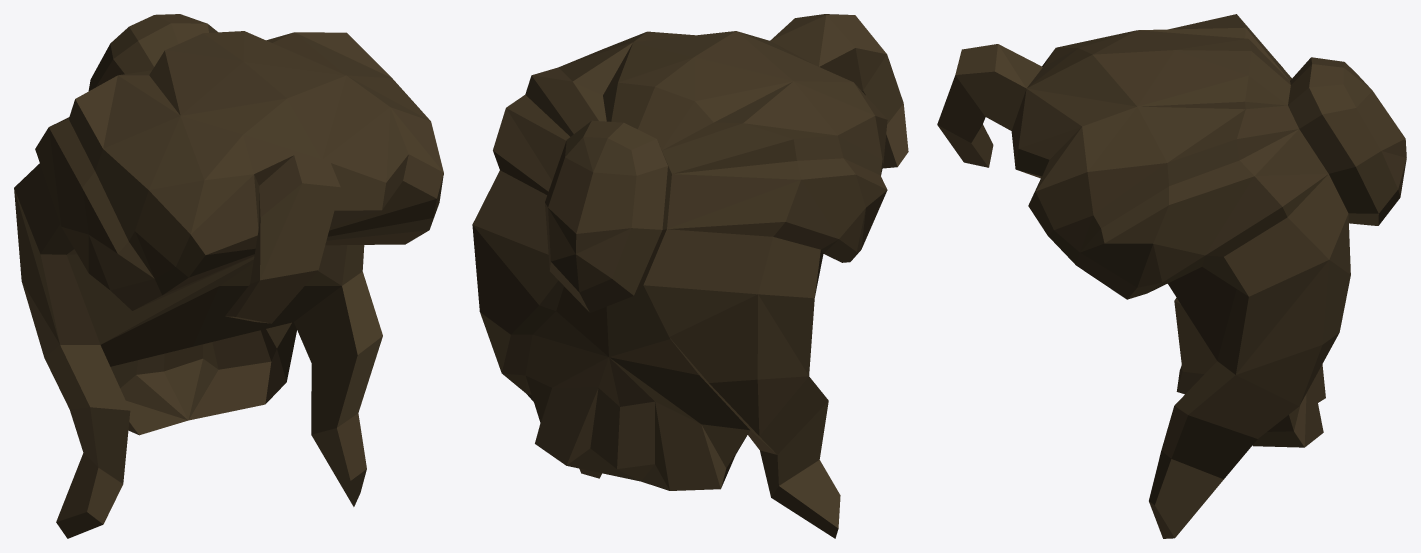
The model's file is Chr_Hair_26_Static.fbx.
The picture shows the model from 3 angles, left to right: view 1: azimuth 30°, elevation 25°; view 2: azimuth 150°, elevation 25°; view 3: azimuth 270°, elevation 25°; orthographic projection. The views are drawn at different scales.
Parts seen in each view (by area): view 1: Chr_Hair_26_Static; view 2: Chr_Hair_26_Static; view 3: Chr_Hair_26_Static.
Boxes of the visible parts, left/top/right/bottom form: Chr_Hair_26_Static: left=14, top=14, right=443, bottom=538; Chr_Hair_26_Static: left=472, top=14, right=908, bottom=538; Chr_Hair_26_Static: left=937, top=14, right=1406, bottom=538.
Size of the model in its own units: 0.261 by 0.3474 by 0.3354.
